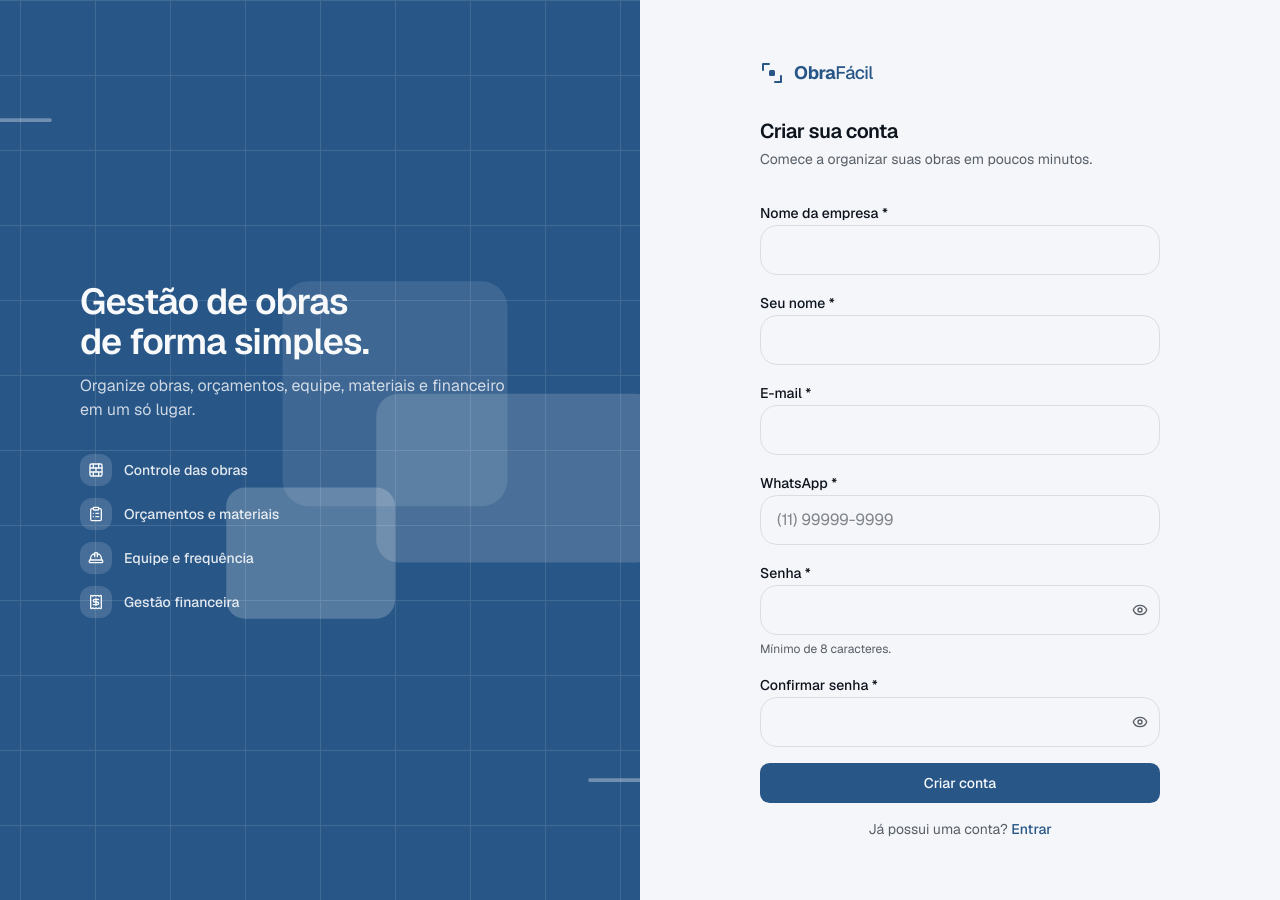
Scenario: RegisterForm › associates 422 validation errors with their fields
The width and height of the screenshot is (1280, 900).
Type "JVW Construções" into the field labelled "Nome da empresa *".
click(960, 250); type("JVW Construções")  # box [760,225,1160,275]
Type "Jefferson Vieira" into the field labelled "Seu nome *".
click(960, 340); type("Jefferson Vieira")  # box [760,315,1160,365]
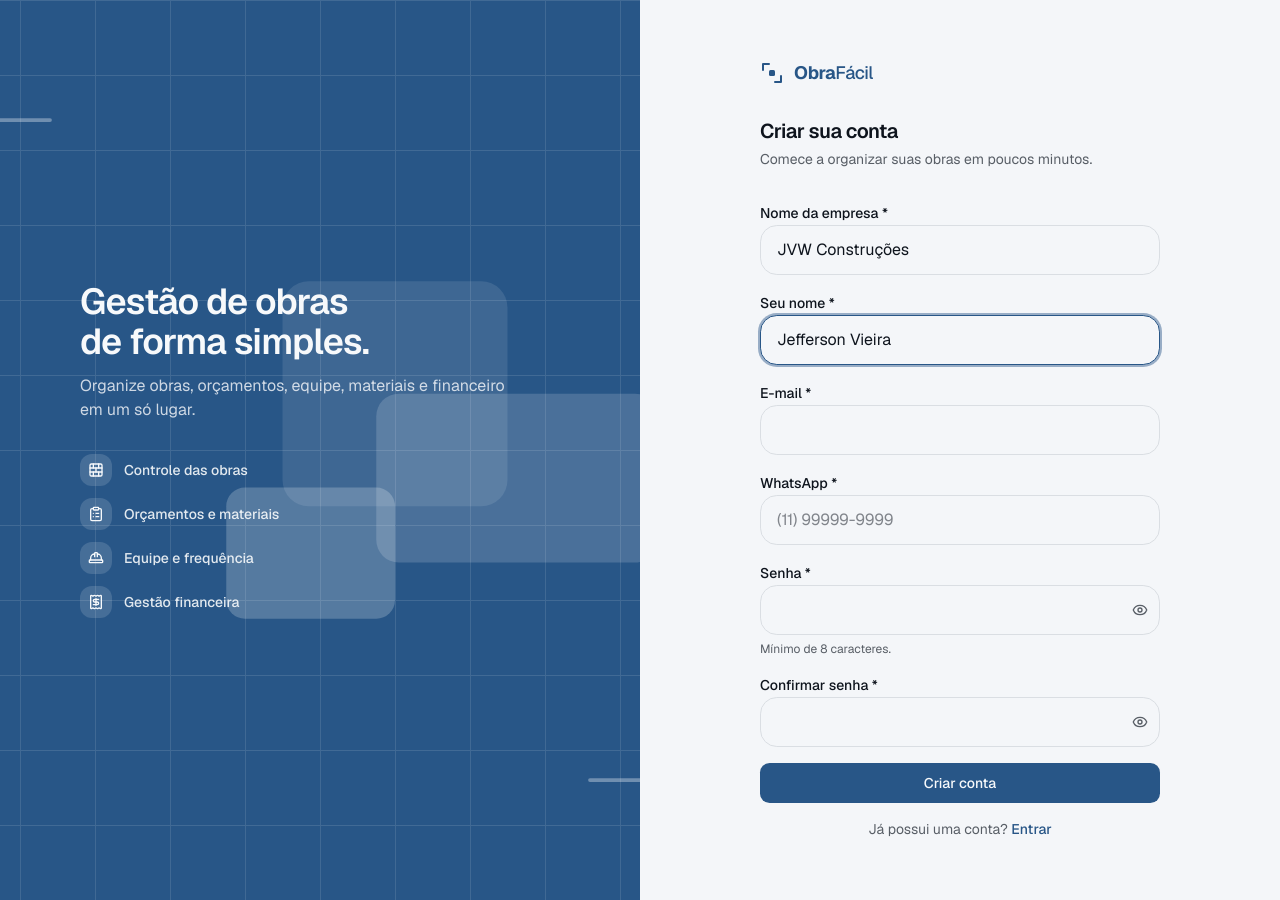
Type "jefferson@example.com" into the field labelled "E-mail *".
click(960, 430); type("jefferson@example.com")  # box [760,405,1160,455]
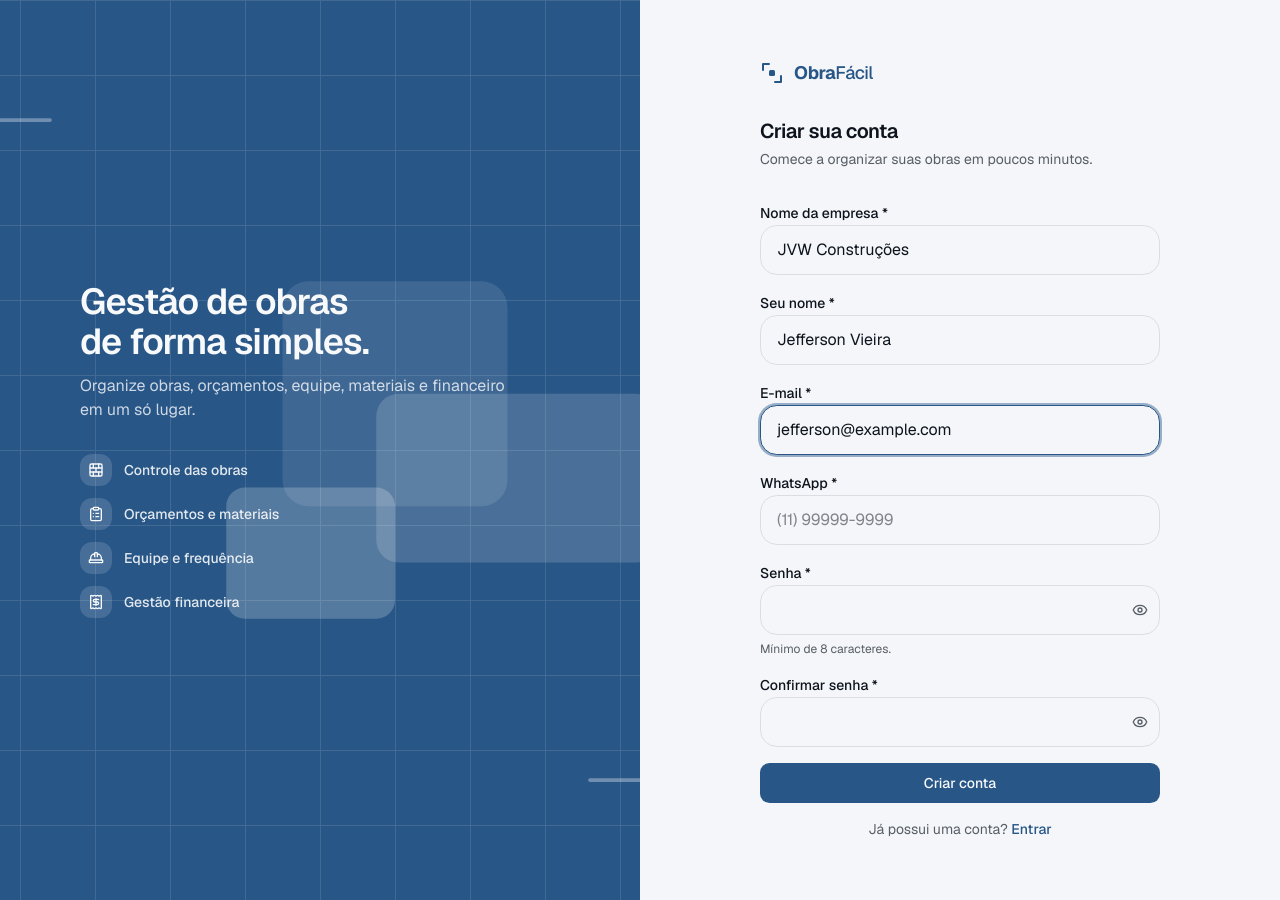
Type "11999999999" into the field labelled "WhatsApp *".
click(960, 520); type("11999999999")  # box [760,495,1160,545]
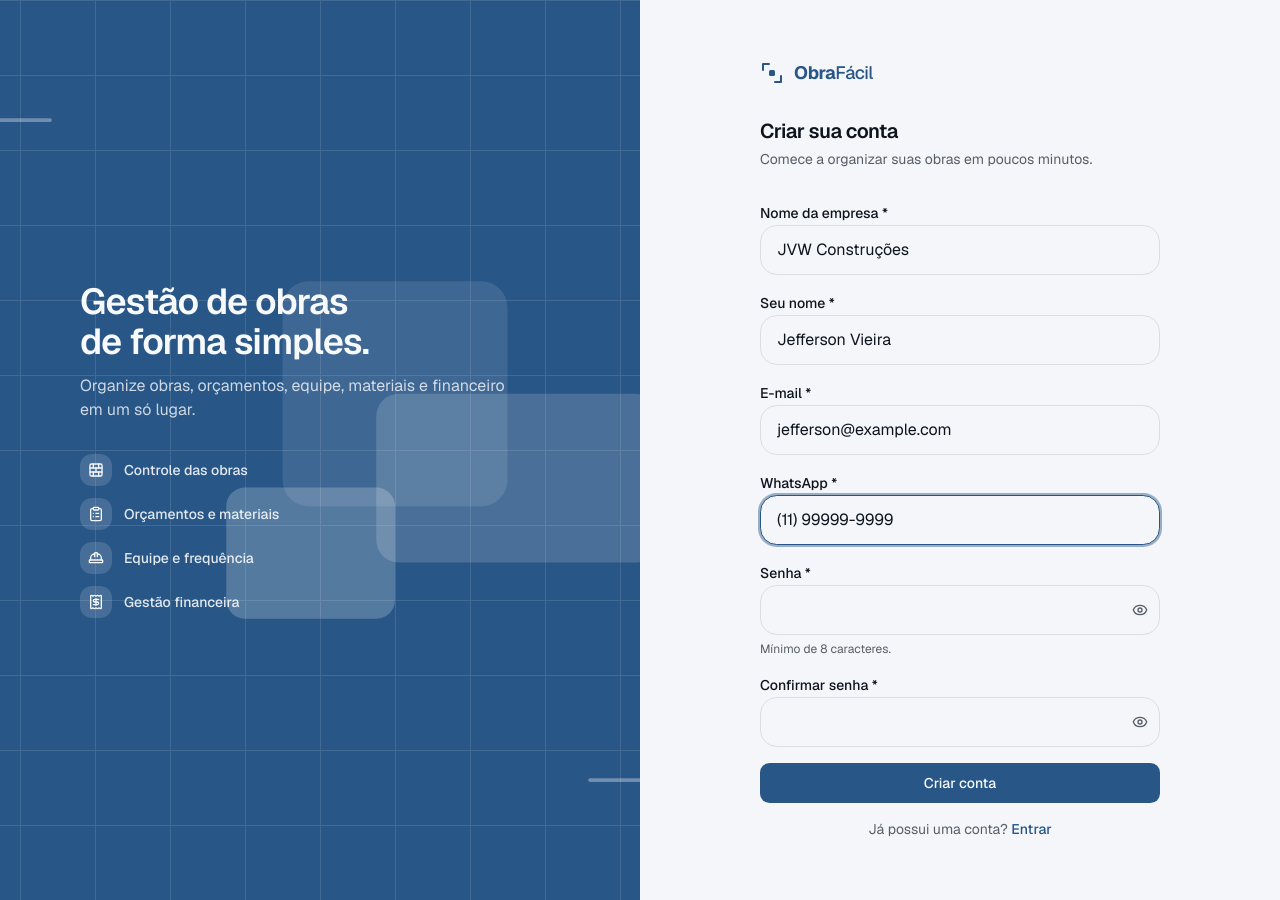
Type "correct-password" into the password field labelled "Senha *".
click(960, 610); type("correct-password")  # box [760,585,1160,635]
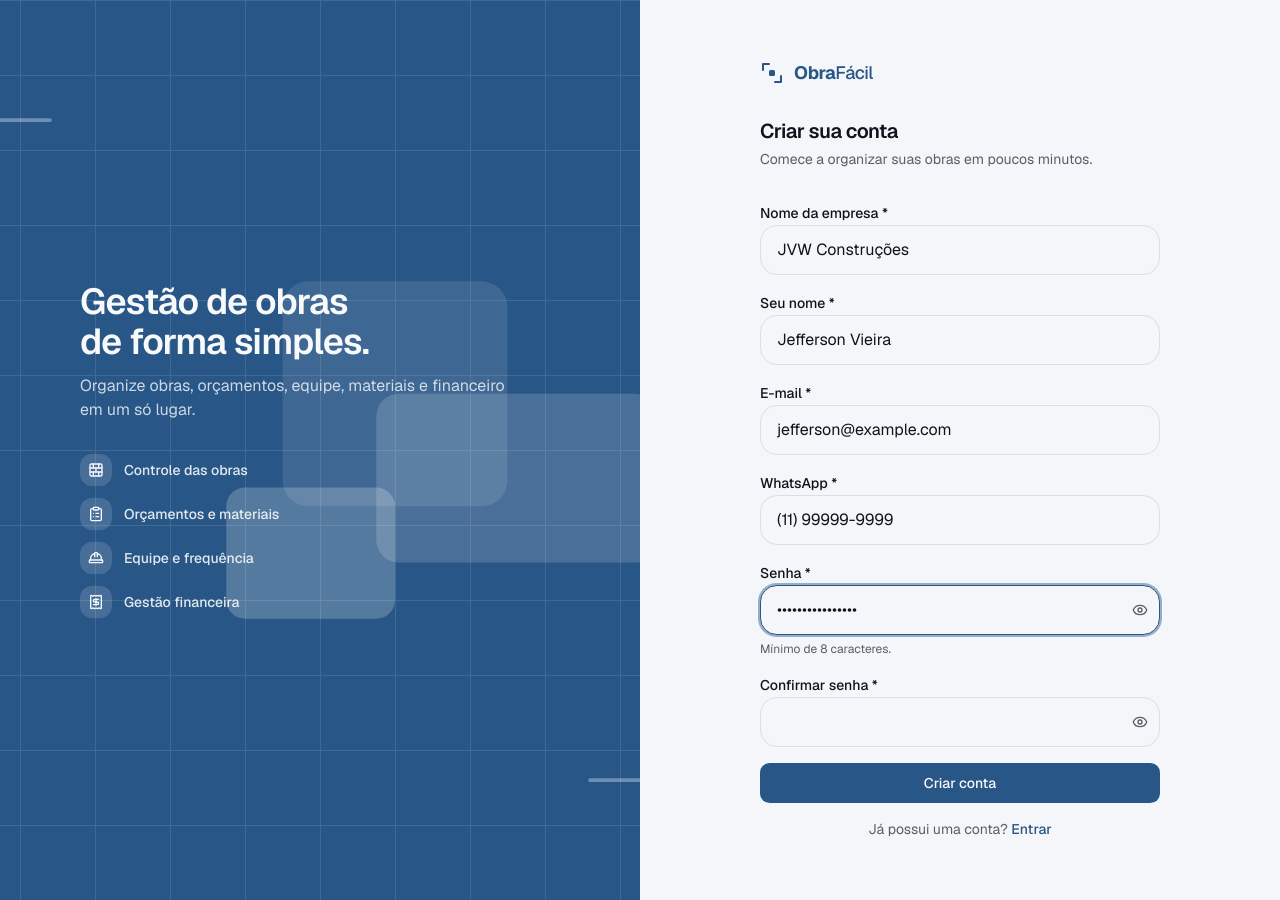
Type "correct-password" into the password field labelled "Confirmar senha *".
click(960, 722); type("correct-password")  # box [760,697,1160,747]
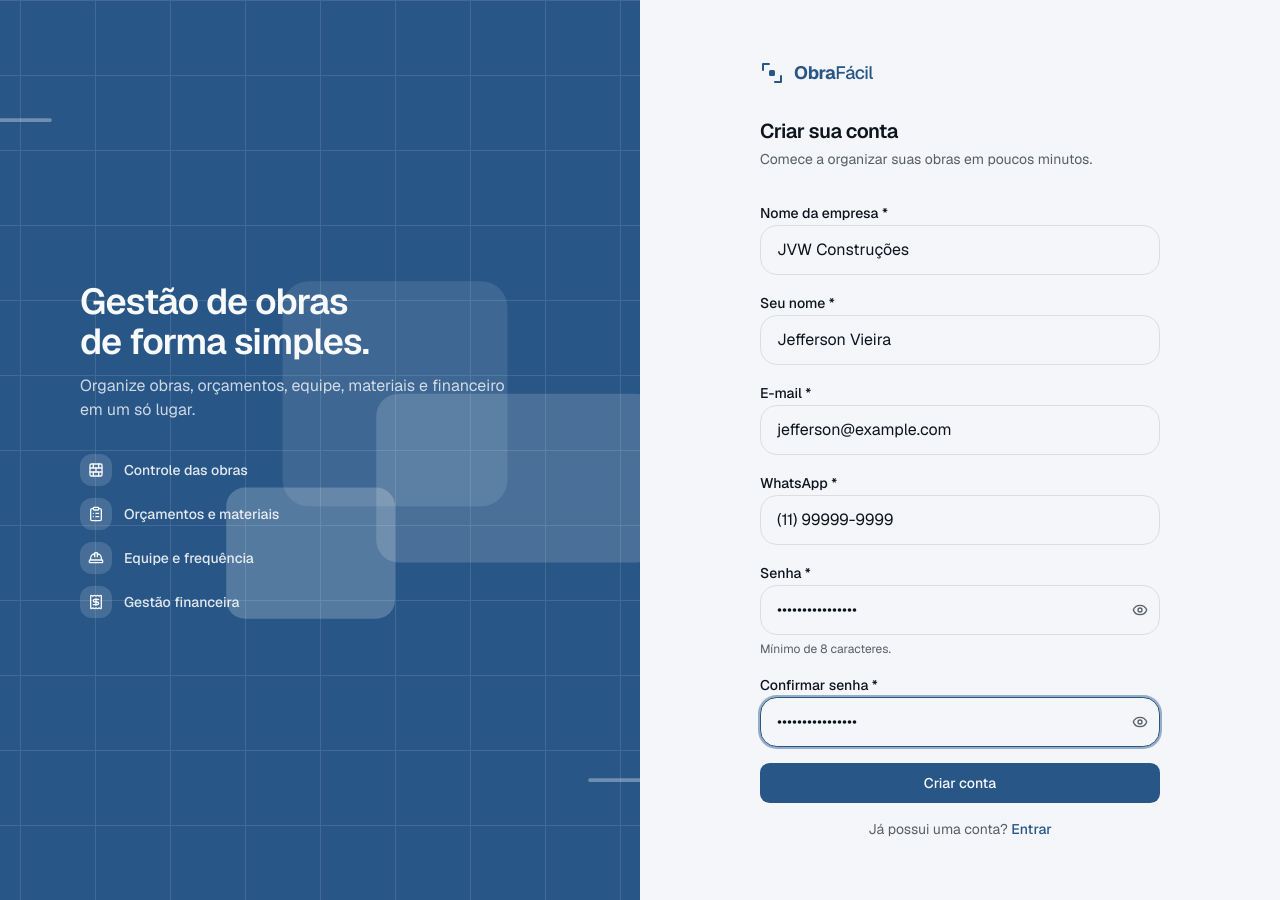
Click the button "Criar conta".
click(960, 783)  # box [760,763,1160,803]
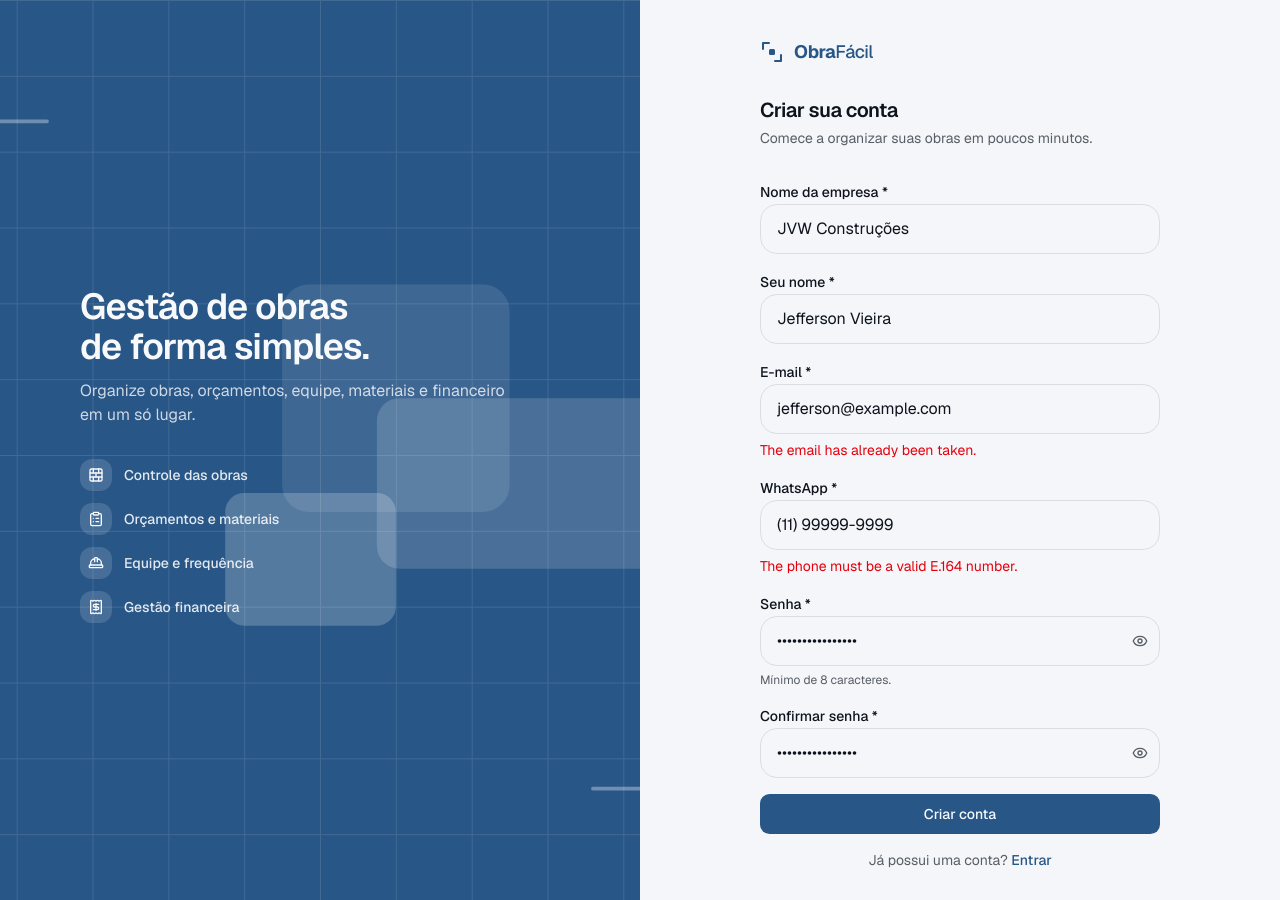
Result: the text "The email has already been taken." is shown at [760,441,976,459]
Result: the text "The phone must be a valid E.164 number." is shown at [760,557,1017,575]
